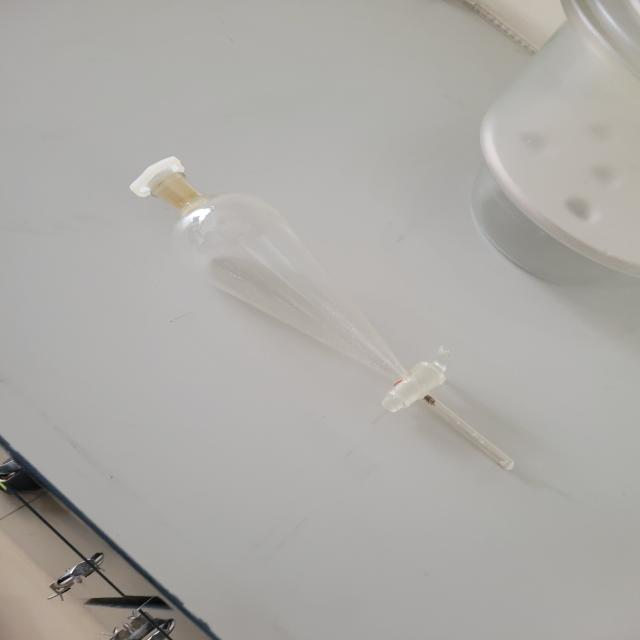Separating_Funnel: (106, 129, 528, 490)
